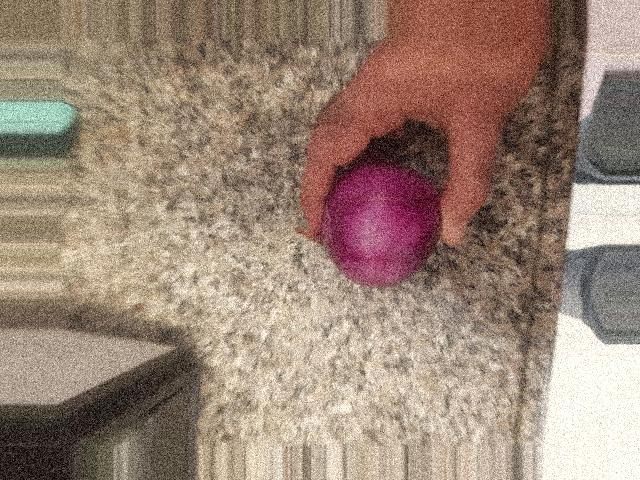onion: (225, 306, 343, 428)
